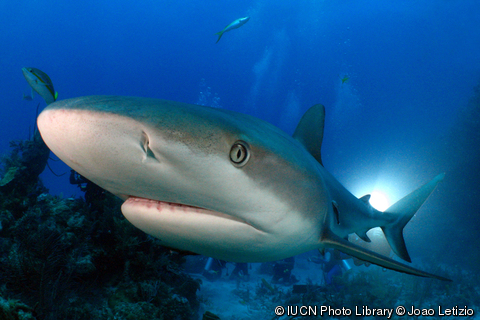Carcharhinus_amblyrhynchos: (35, 92, 457, 281)
